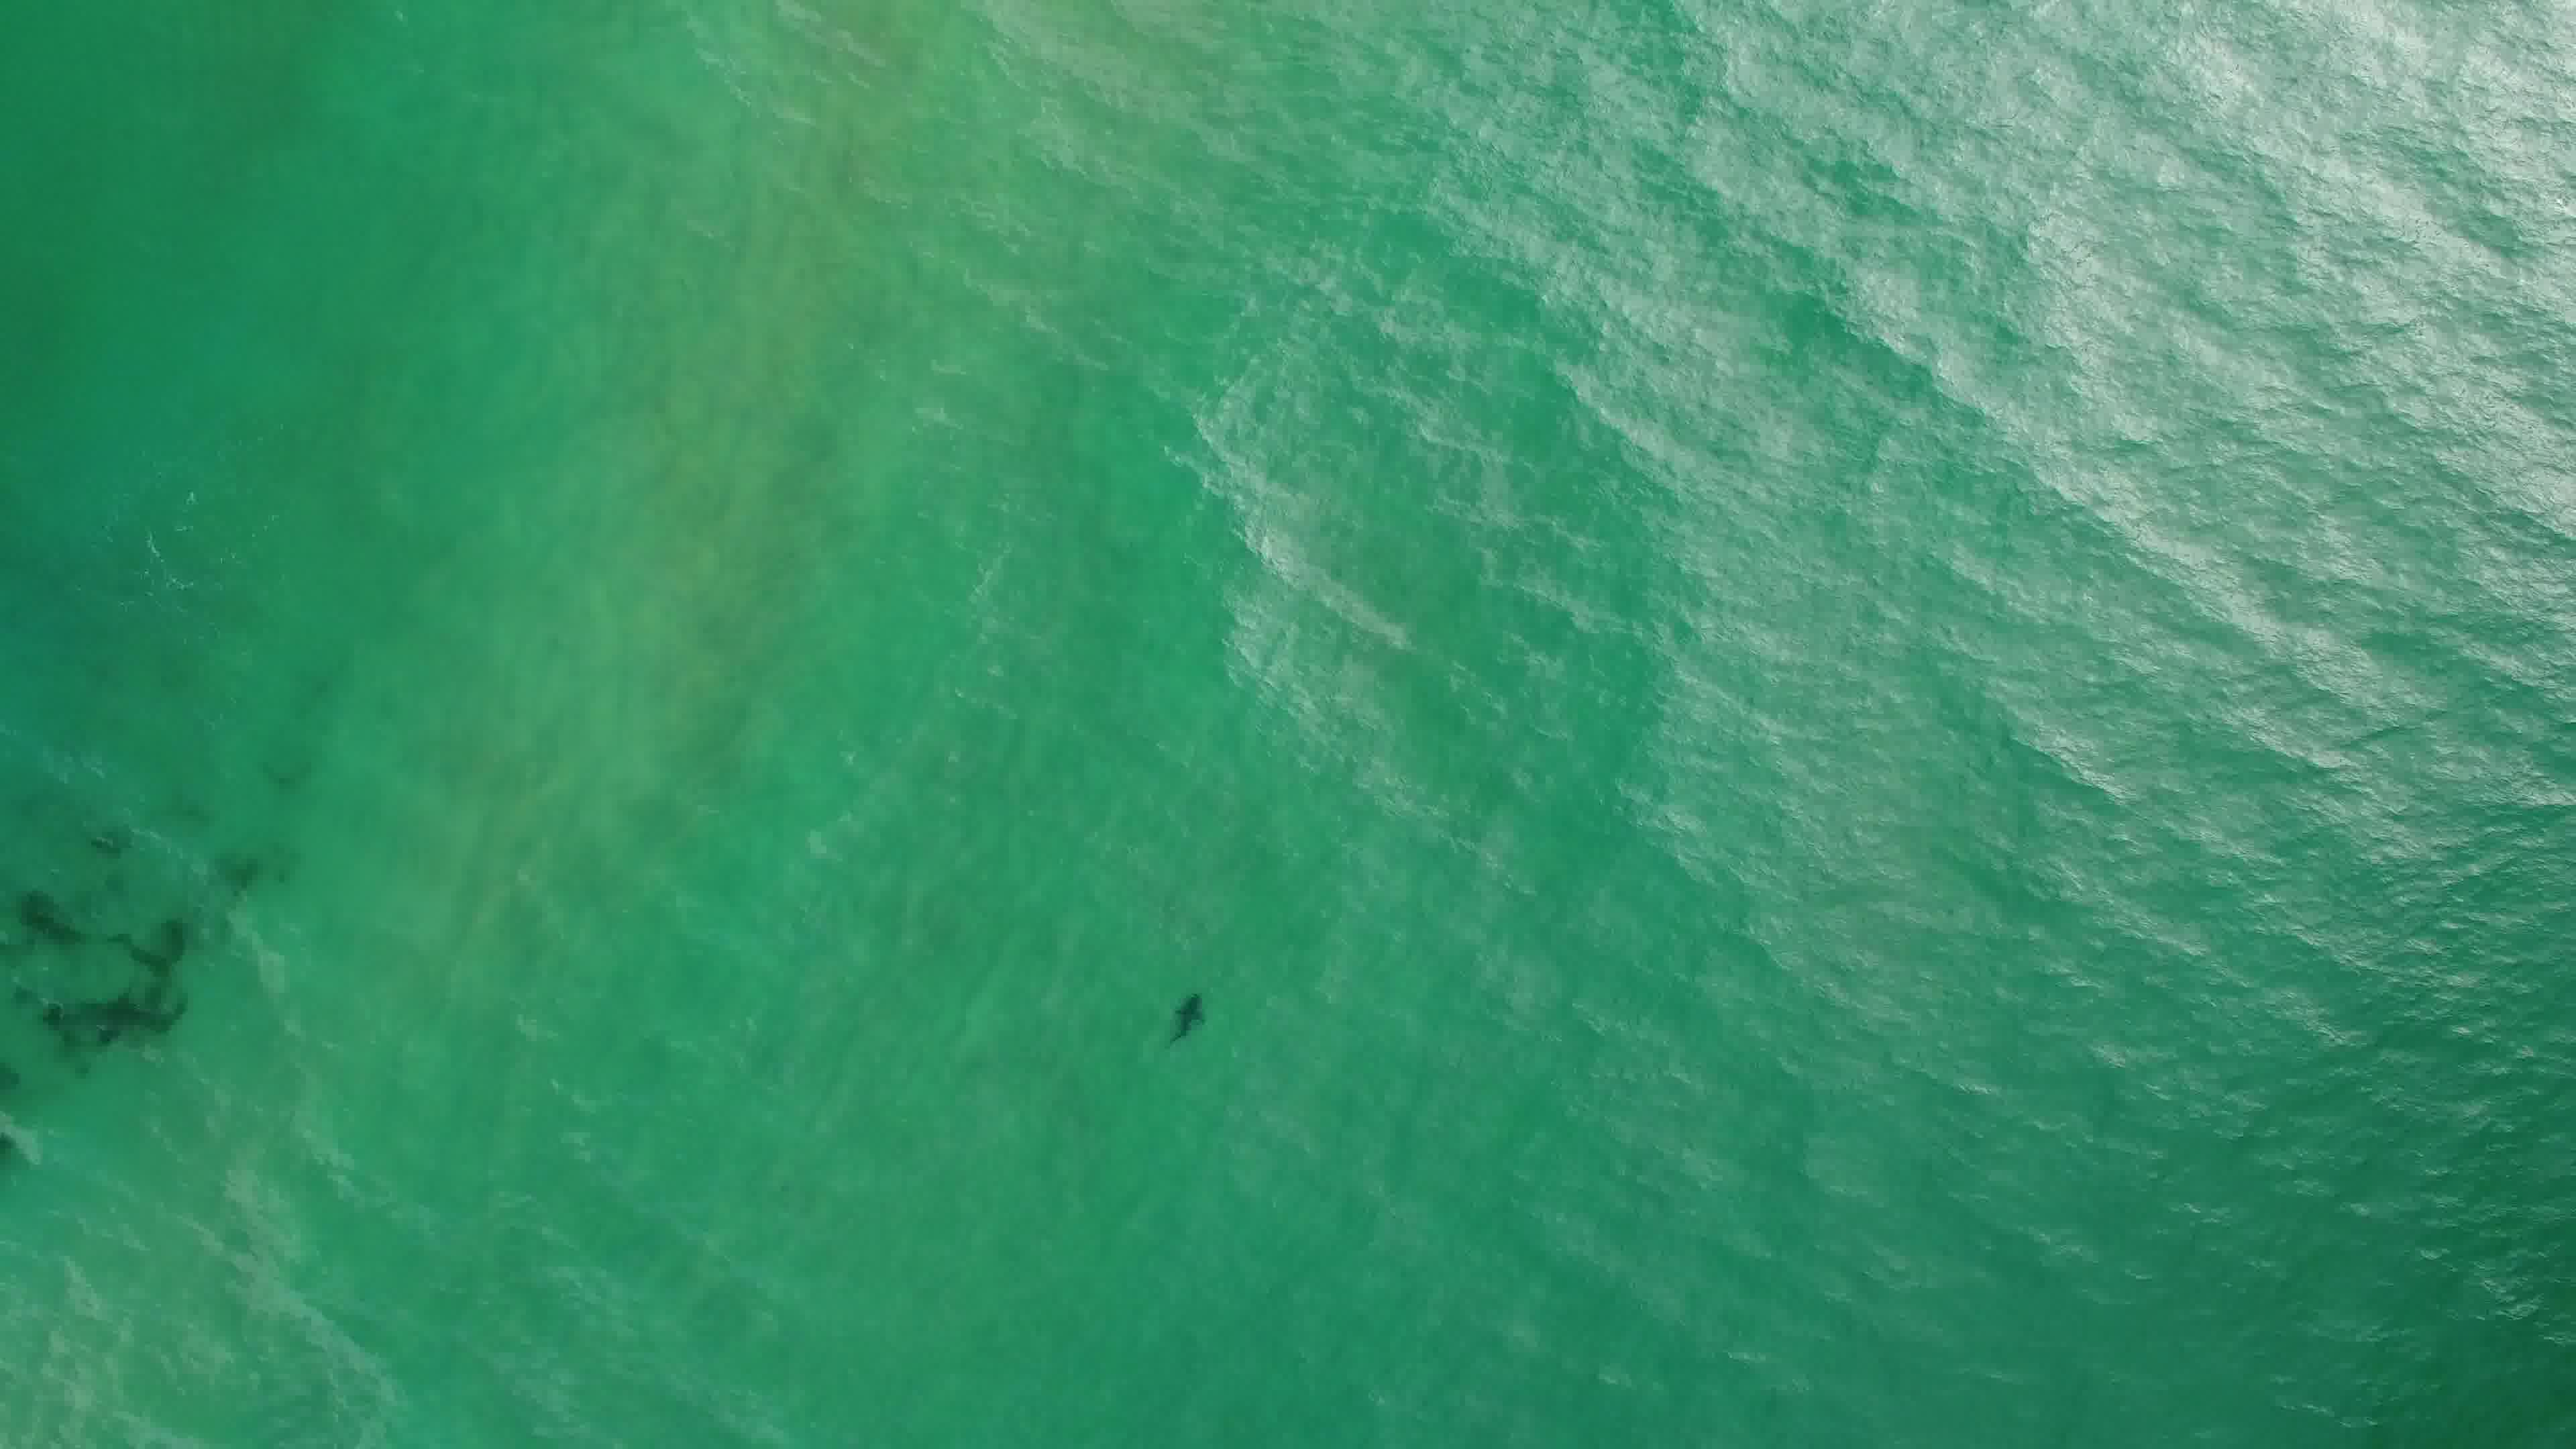shark: (1159, 987, 1215, 1051)
